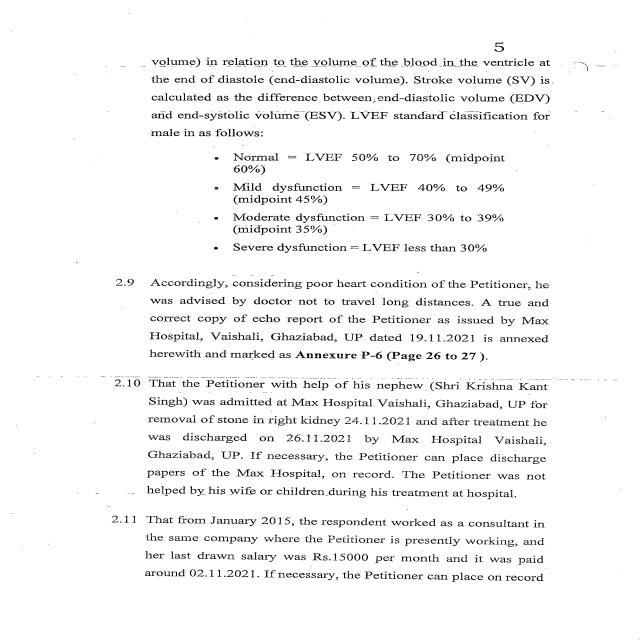page-number: (401, 0, 640, 56)
